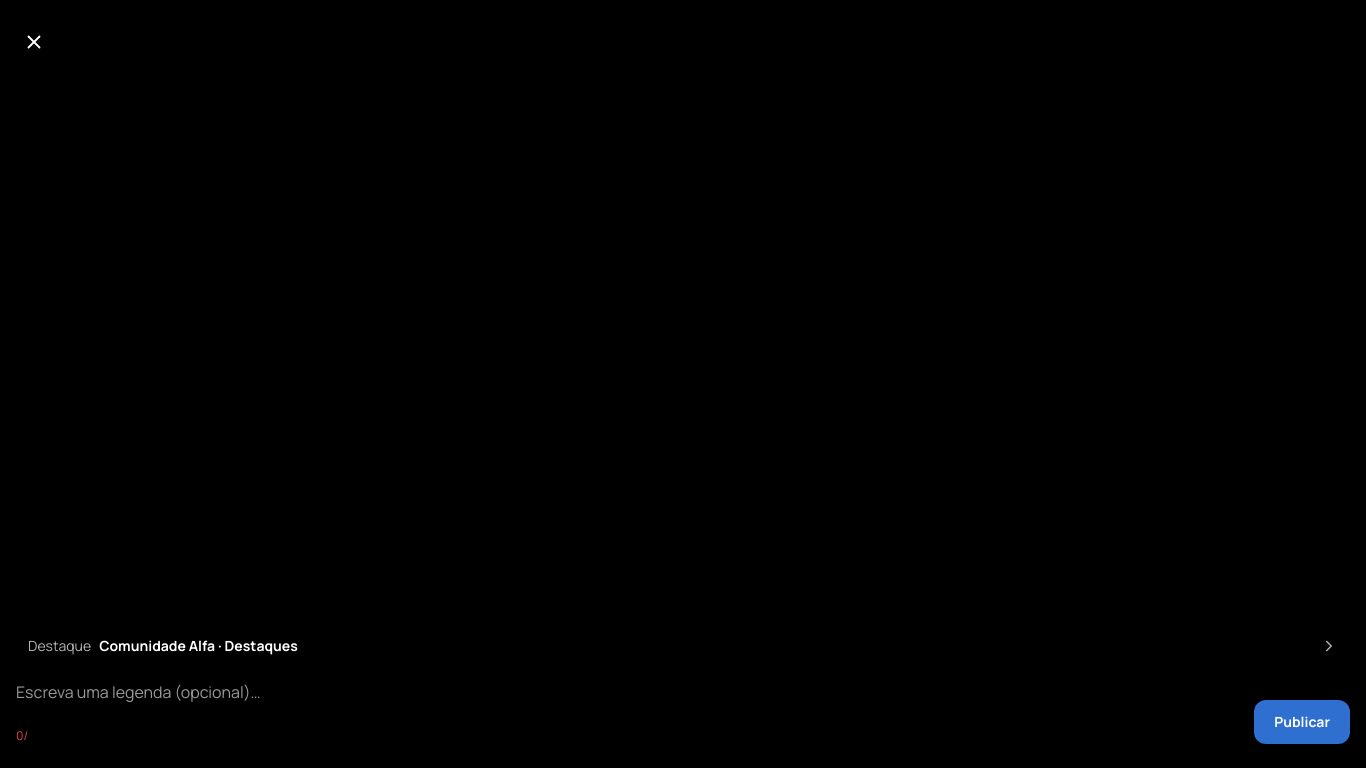
StoryComposer — "Destaque" (05.2-08, D-111..D-115, UI-D-68..UI-D-71) › P7. a bare 404 keeps the generic publish error AND the selection
Click the button "Publicar" at (1302, 722), box top-left (1254, 700), bottom-right (1350, 744)
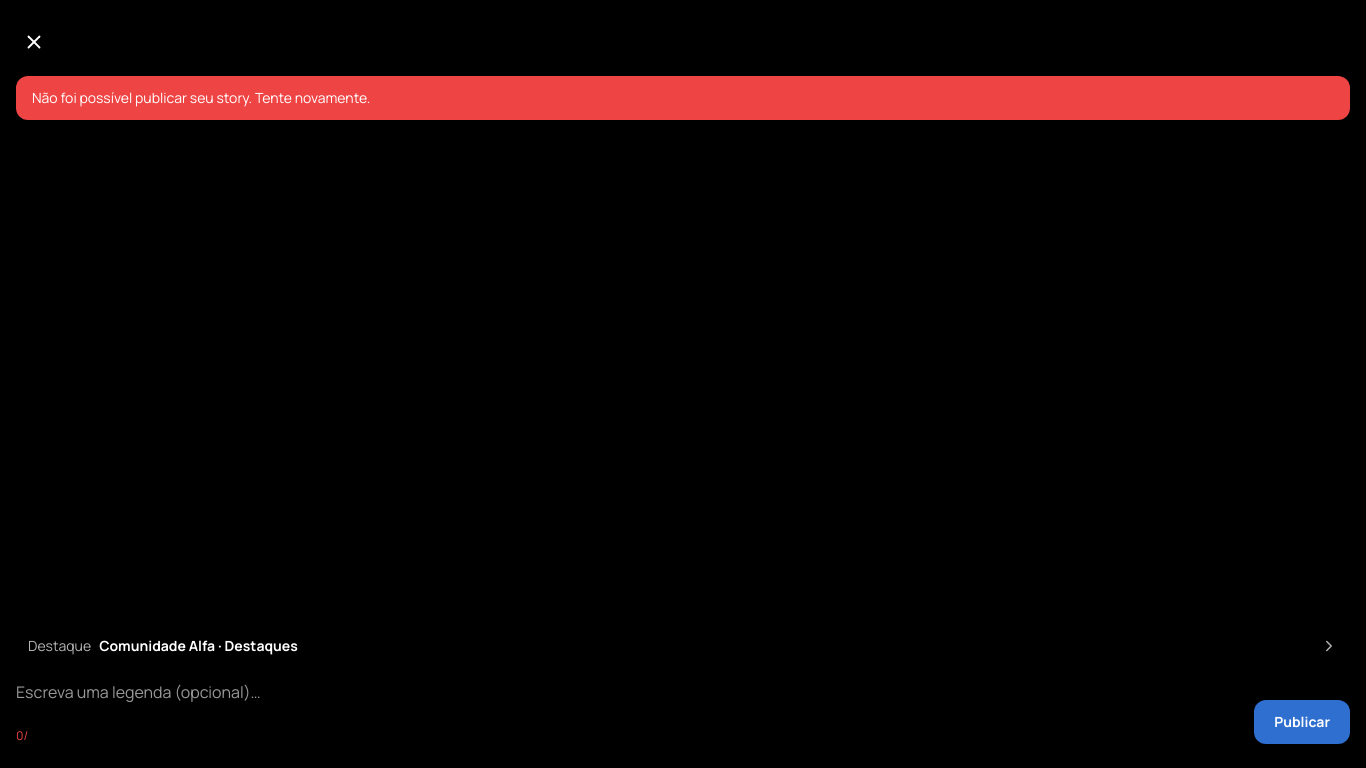
Expected: the message reads "Não foi possível publicar seu story. Tente novamente.", top-left (32, 88), bottom-right (370, 107)
